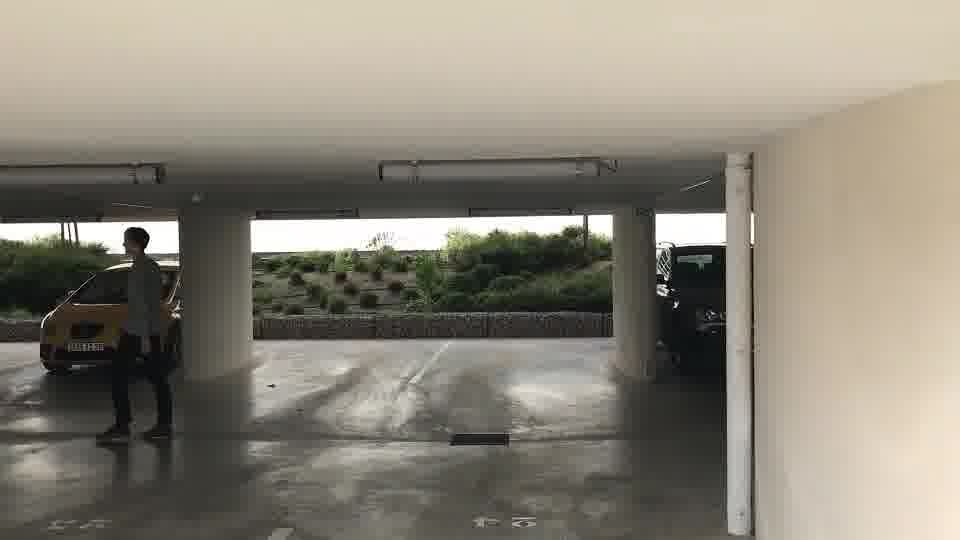jugador: (81, 225, 181, 445)
